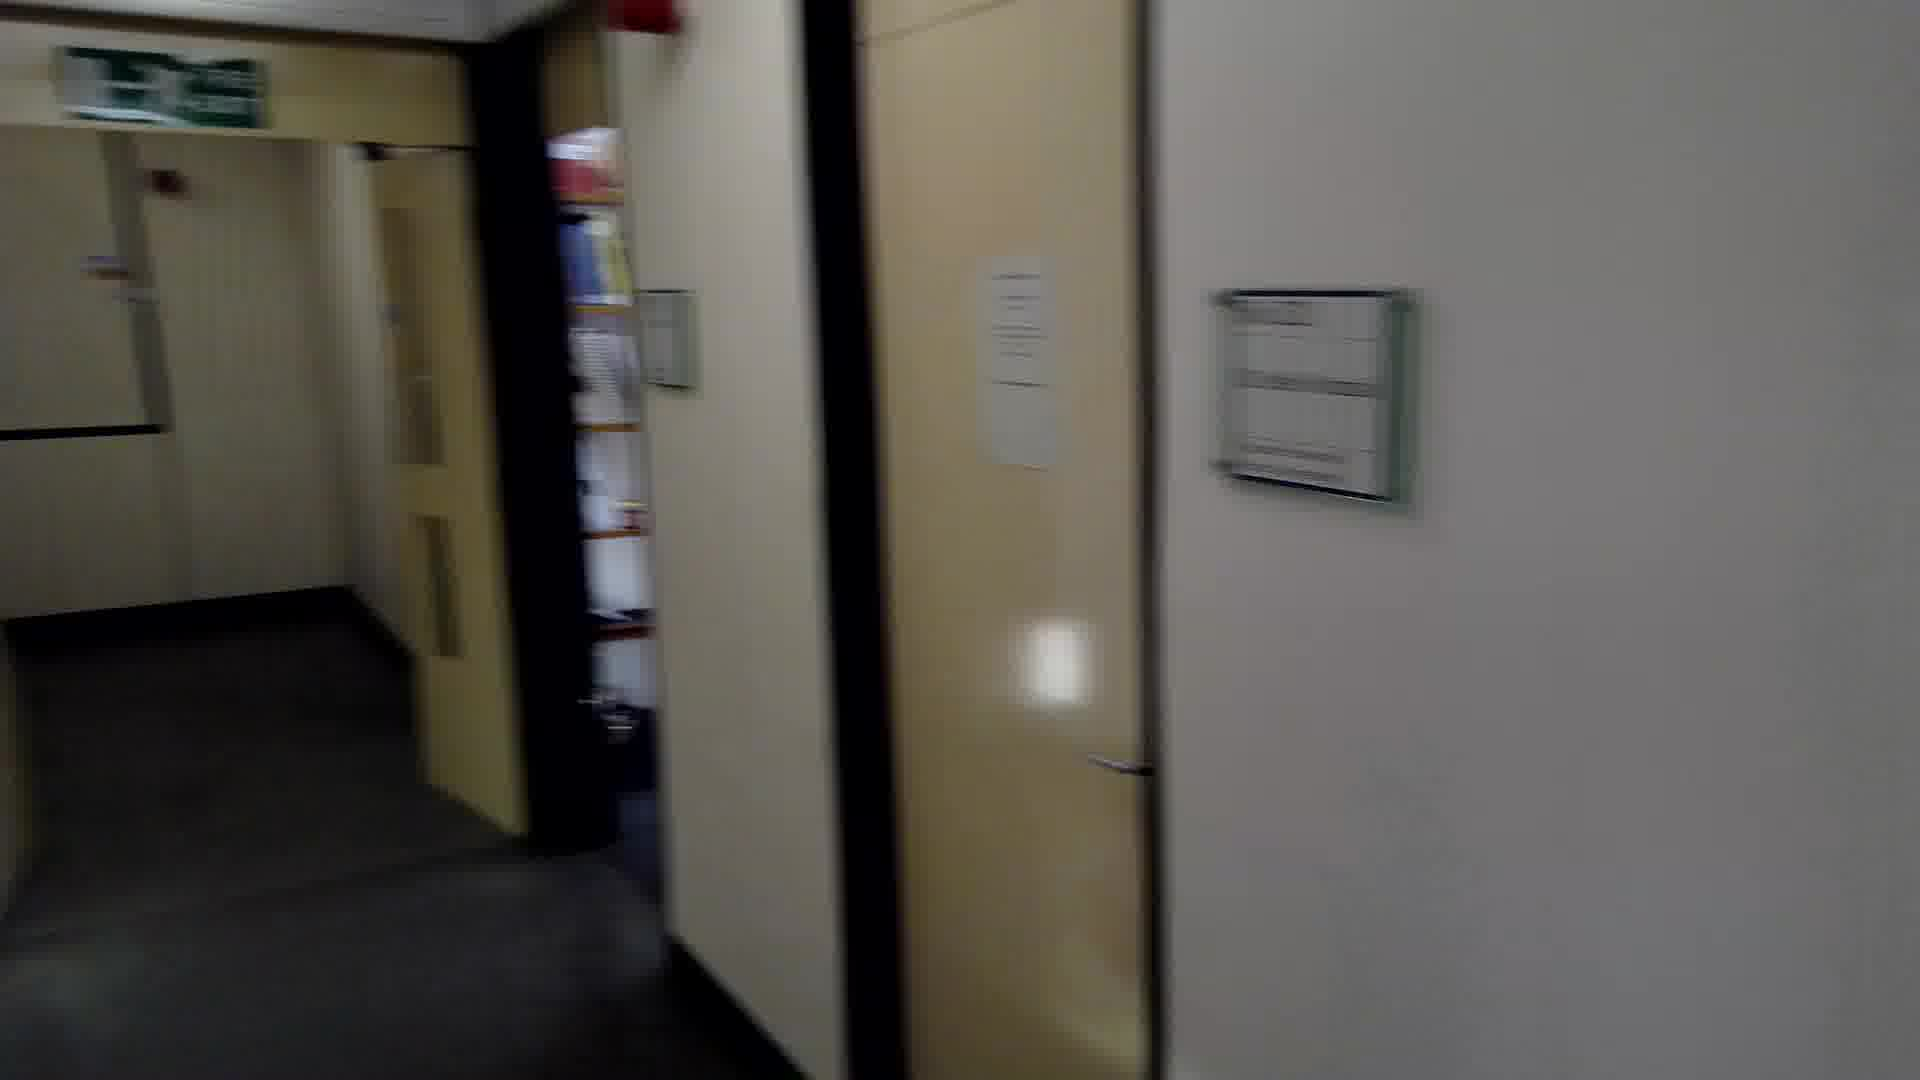Door: (779, 13, 1197, 1080), (339, 146, 555, 858)
